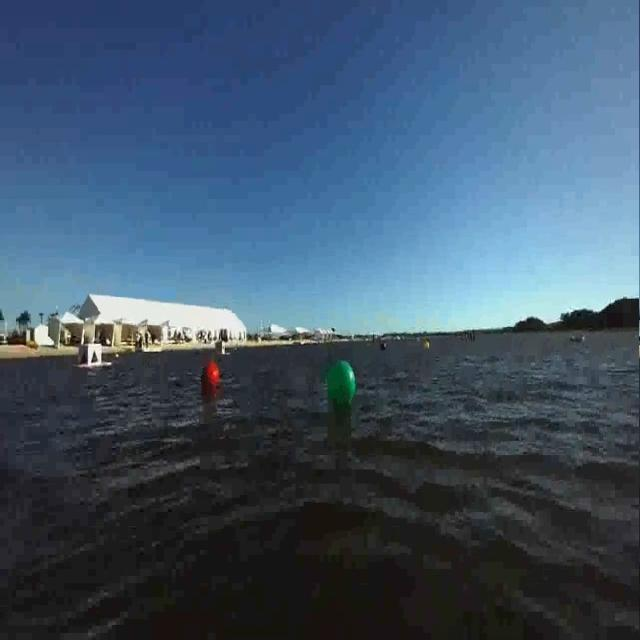green-buoy: (327, 358, 358, 408)
red-buoy: (202, 360, 219, 392)
yellow-buoy: (424, 338, 432, 352)
